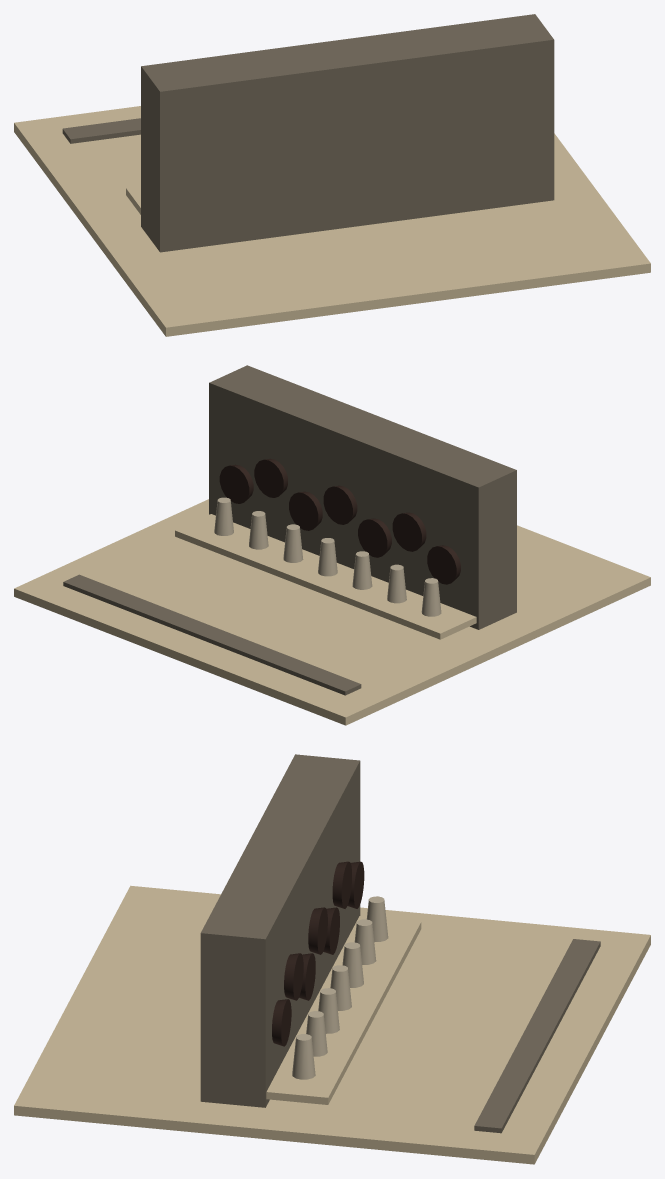
File: model-medium.glb
3 renders of one model, top to bottom at view 1: azimuth 30°, elevation 25°; view 2: azimuth 150°, elevation 25°; view 3: azimuth 270°, elevation 25°, orthographic. The views are drawn at different scales.
Visible parts, largest first — view 1: grotto_cliff_face, context_site_plinth, front_scale_strip; view 2: context_site_plinth, grotto_cliff_face, grotto_viewing_walkway, shadow_cave_recess (×7), front_scale_strip, seated_figure_mass (×7); view 3: context_site_plinth, grotto_cliff_face, grotto_viewing_walkway, front_scale_strip, seated_figure_mass (×7), shadow_cave_recess (×7).
Part boxes in pixels (bbox=[...]): grotto_cliff_face: bbox=[141, 14, 554, 252]; context_site_plinth: bbox=[14, 106, 650, 336]; front_scale_strip: bbox=[62, 118, 140, 143]; context_site_plinth: bbox=[14, 499, 650, 725]; grotto_cliff_face: bbox=[209, 365, 516, 629]; grotto_viewing_walkway: bbox=[175, 514, 476, 639]; shadow_cave_recess (×7): bbox=[219, 458, 460, 584]; front_scale_strip: bbox=[63, 574, 361, 695]; seated_figure_mass (×7): bbox=[214, 497, 441, 616]; context_site_plinth: bbox=[14, 885, 650, 1164]; grotto_cliff_face: bbox=[200, 754, 360, 1107]; grotto_viewing_walkway: bbox=[266, 916, 421, 1104]; front_scale_strip: bbox=[474, 939, 600, 1133]; seated_figure_mass (×7): bbox=[292, 896, 388, 1079]; shadow_cave_recess (×7): bbox=[272, 861, 364, 1046].
Bounding box in the file's own units: 9.55 × 2.95 × 9.55.
